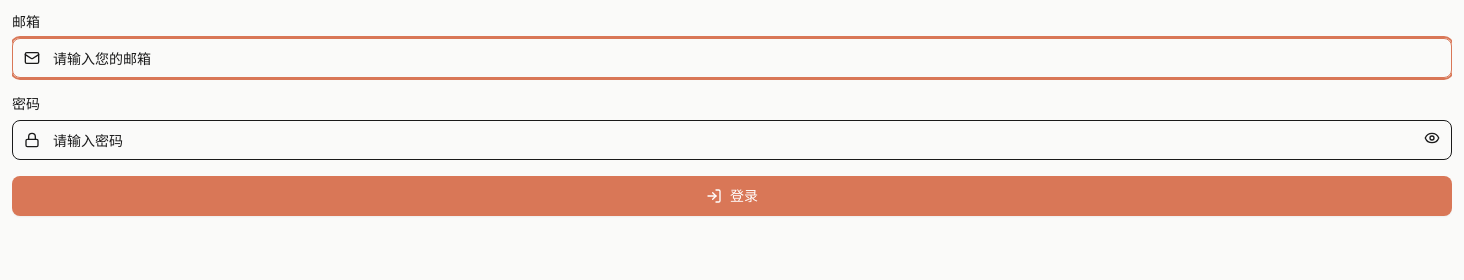
Test: LoginForm 组件 › 空提交 - 显示邮箱和密码错误
Step 1. Click the button "登录" → (732, 196), box top-left (12, 176), bottom-right (1452, 216)
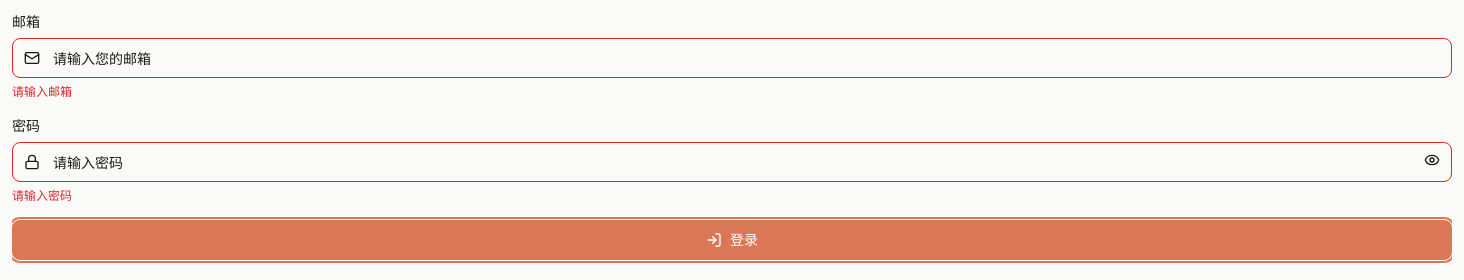
Expected: the text "请输入邮箱" is shown, top-left (12, 84), bottom-right (72, 99)
Expected: the text "请输入密码" is shown, top-left (12, 188), bottom-right (72, 203)
